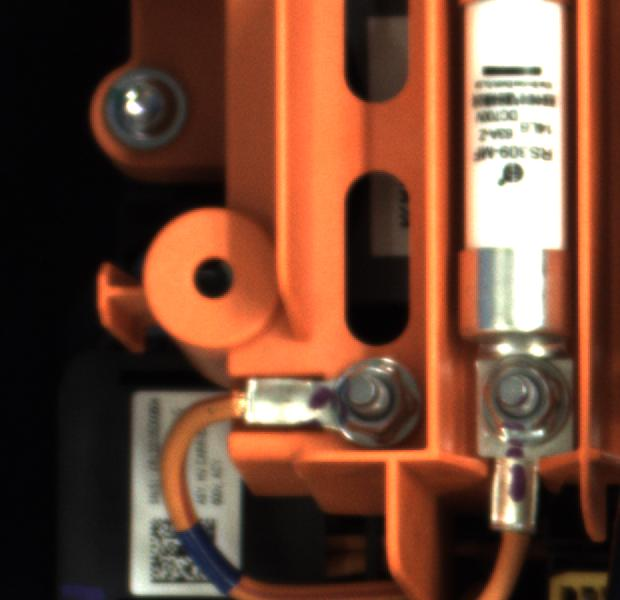screw_m: (91, 63, 194, 158)
screw_s: (316, 349, 418, 453), (477, 351, 577, 451)
